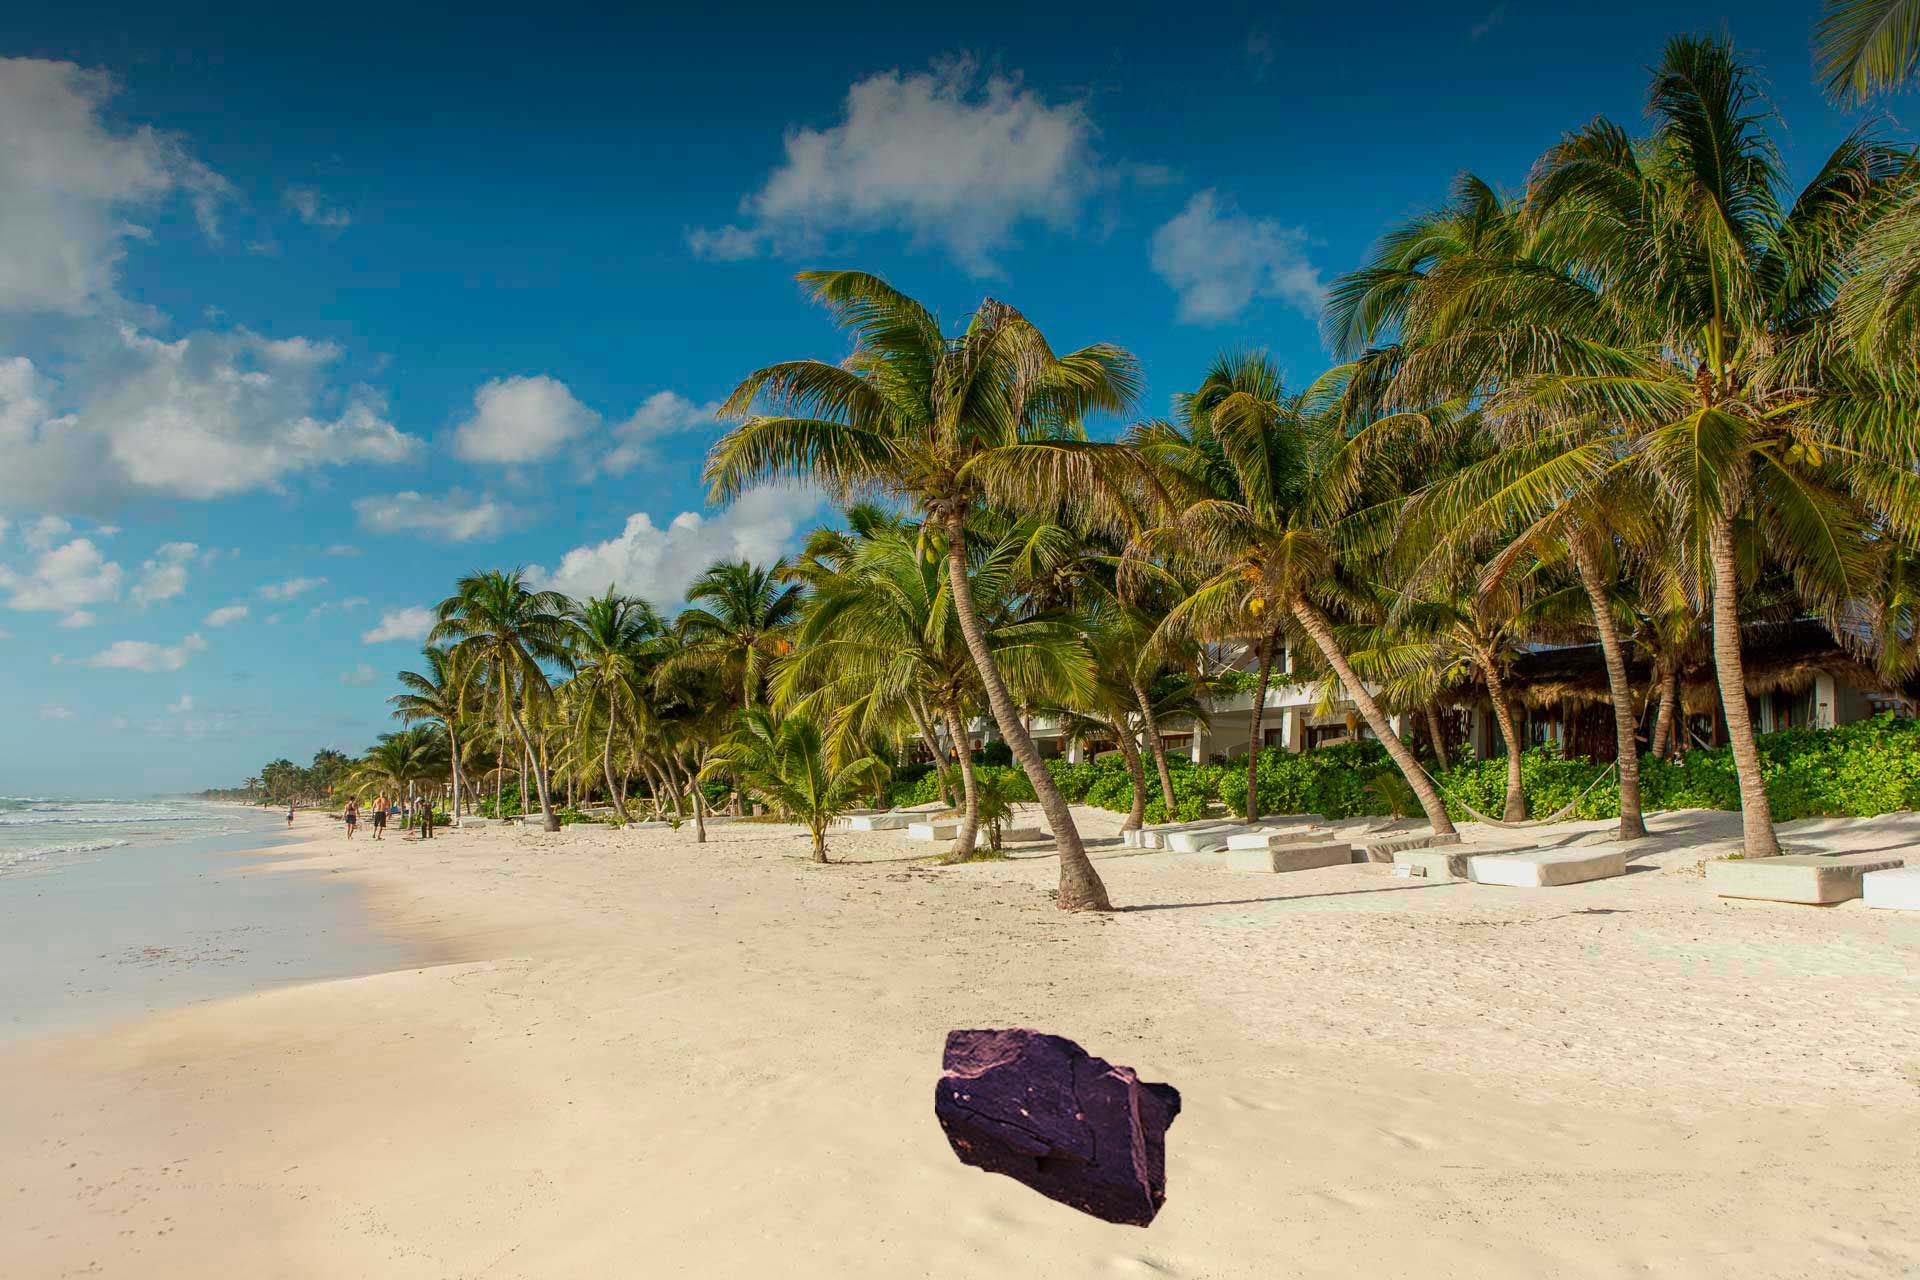Rocks: (917, 999, 1203, 1249)
